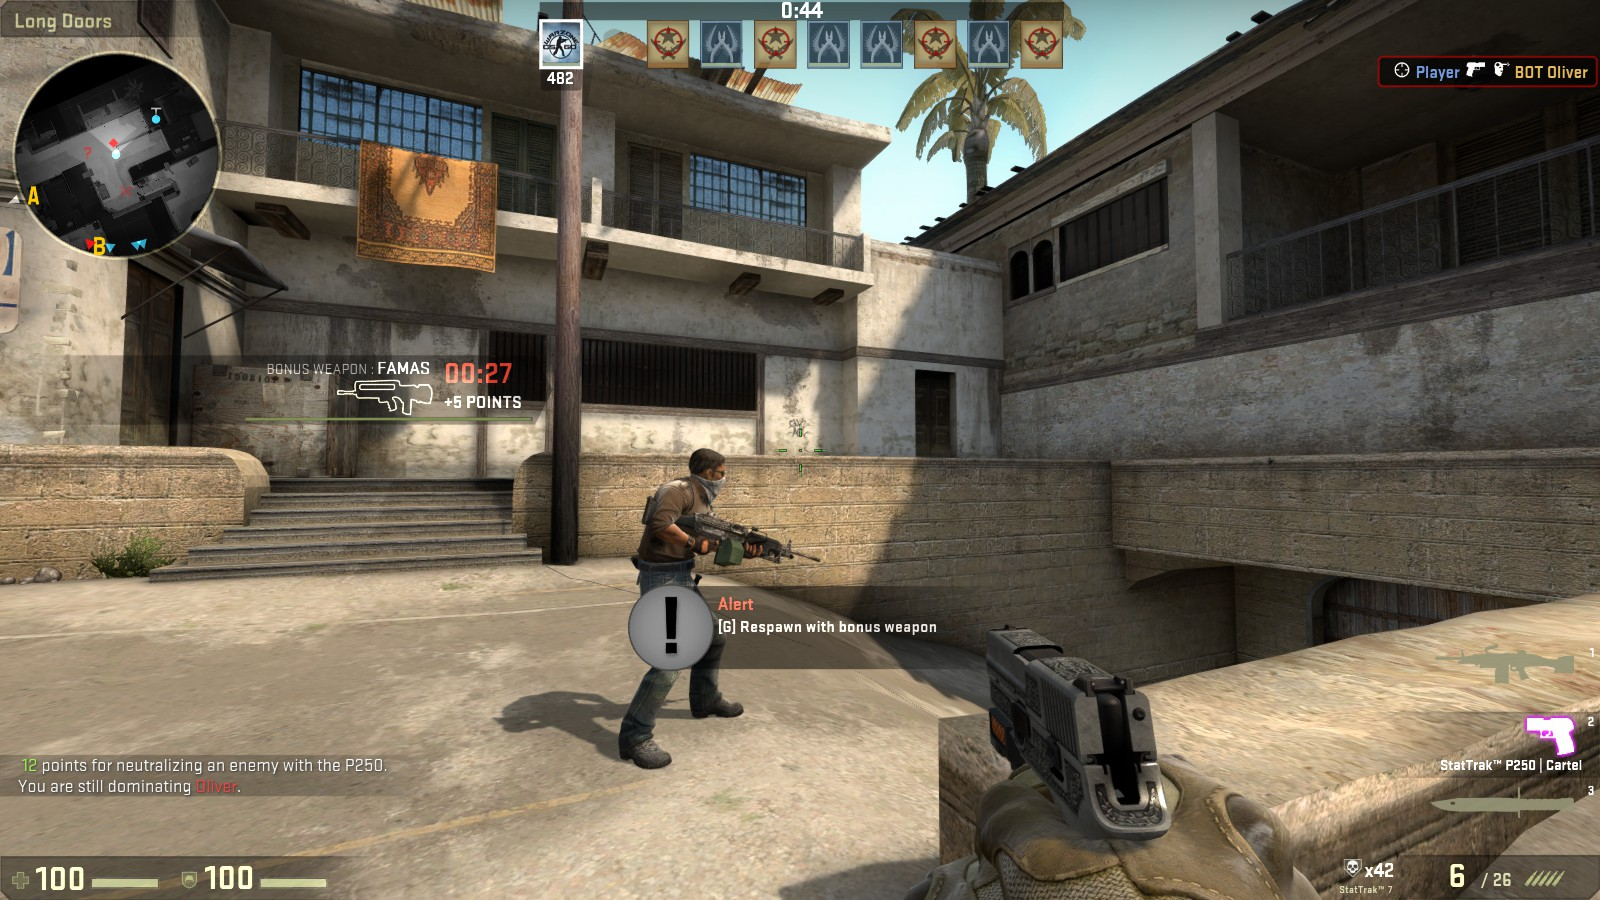t: (620, 445, 731, 770)
th: (684, 447, 735, 505)
